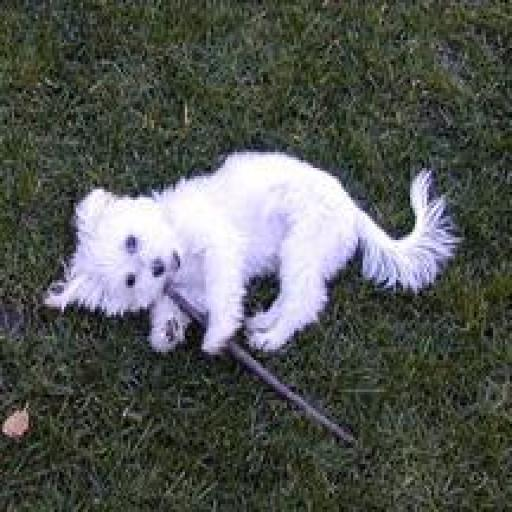dog_face: (65, 188, 177, 313)
